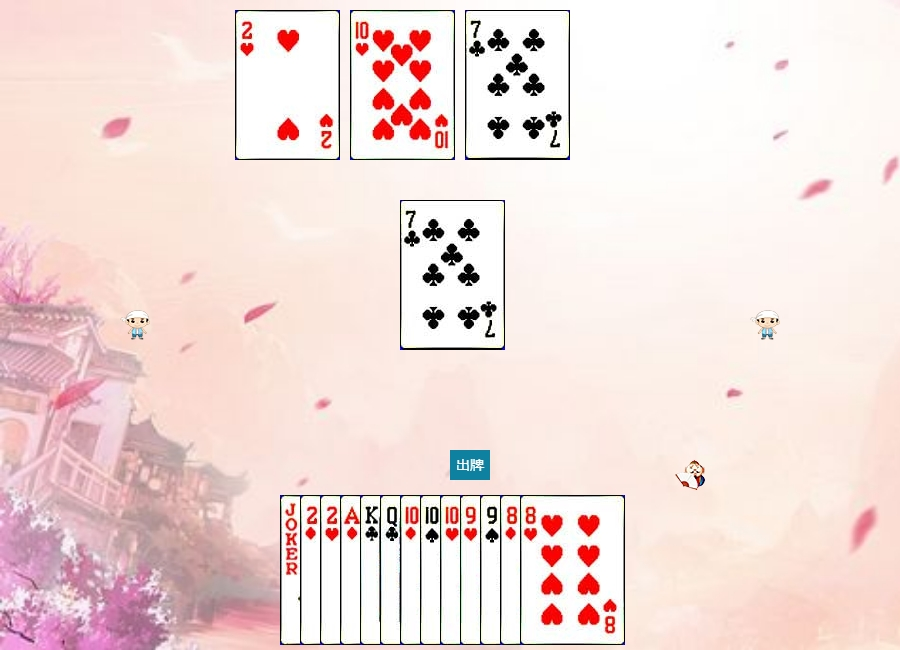10~1: (400, 495, 505, 645)
10~3: (350, 10, 455, 160), (440, 495, 545, 645)
10~4: (420, 495, 525, 645)
12~2: (380, 495, 485, 645)
13~2: (360, 495, 465, 645)
14~1: (340, 495, 445, 645)
15~1: (300, 495, 405, 645)
15~3: (235, 10, 340, 160), (320, 495, 425, 645)
18~4: (280, 495, 385, 645)
7~2: (465, 10, 570, 160), (400, 200, 505, 350)
8~1: (500, 495, 605, 645)
8~3: (520, 495, 625, 645)
9~3: (460, 495, 565, 645)
9~4: (480, 495, 585, 645)
